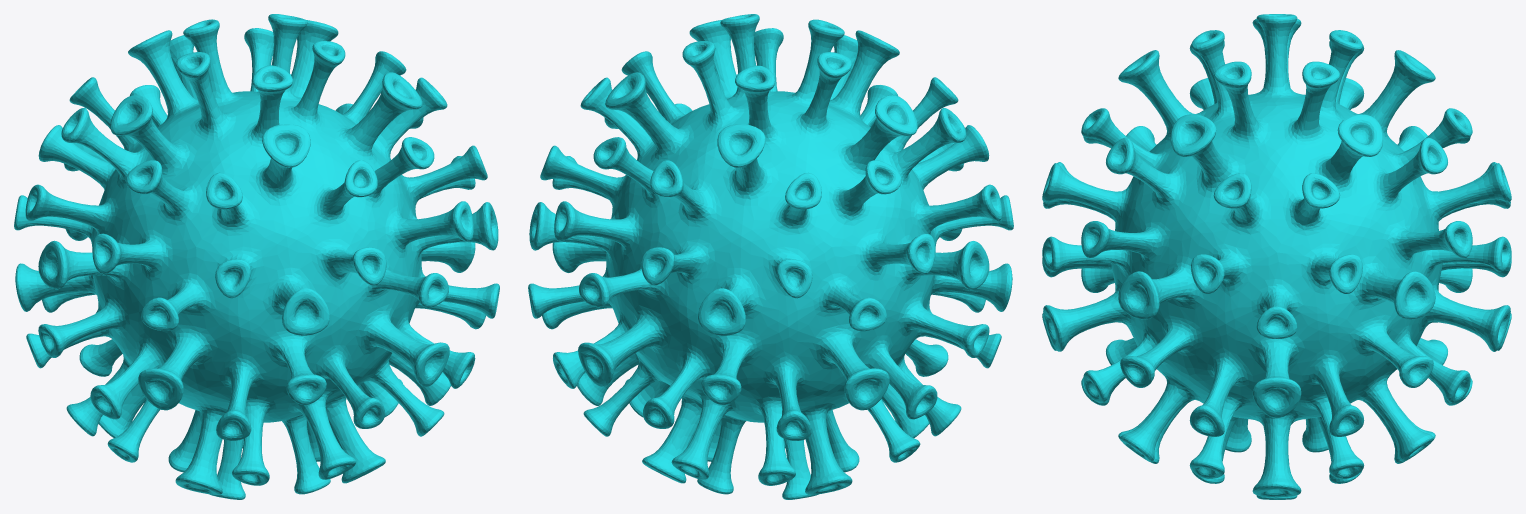
The model's file is CoronavirusPrefab.fbx.
3 renders of one model, left to right at view 1: azimuth 30°, elevation 25°; view 2: azimuth 150°, elevation 25°; view 3: azimuth 270°, elevation 25°, orthographic.
Parts seen in each view (by area): view 1: Icosphere; view 2: Icosphere; view 3: Icosphere.
Part boxes in pixels (box(x1,y1,x2,y2)): Icosphere: box(14, 14, 499, 499); Icosphere: box(528, 14, 1013, 499); Icosphere: box(1042, 14, 1511, 499).
Bounding box in the file's own units: 280 × 274 × 272.
